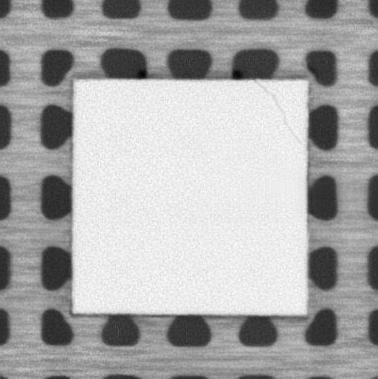DIE_CRACK: (255, 82, 303, 144)
